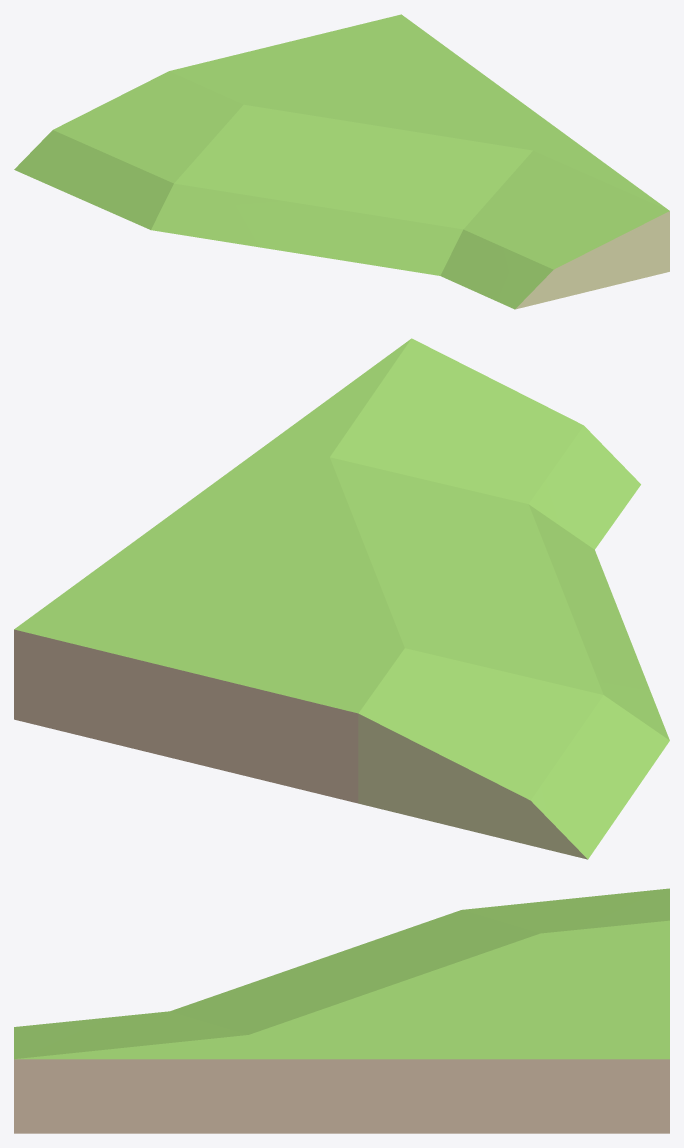
File: Grass_Carpet_Esse_2x2.fbx
3 views of the same model, one above another, from view 1: azimuth 30°, elevation 25°; view 2: azimuth 150°, elevation 25°; view 3: azimuth 270°, elevation 25° (orthographic). The views are drawn at different scales.
Visible parts, largest first — view 1: Grass_Carpet_Esse_2x2; view 2: Grass_Carpet_Esse_2x2; view 3: Grass_Carpet_Esse_2x2.
Boxes of the visible parts, x1,y1,x2,y2 form: Grass_Carpet_Esse_2x2: (14,14,669,309); Grass_Carpet_Esse_2x2: (14,338,669,859); Grass_Carpet_Esse_2x2: (14,888,669,1133).
Size of the model in its own units: 167 by 25 by 200.
